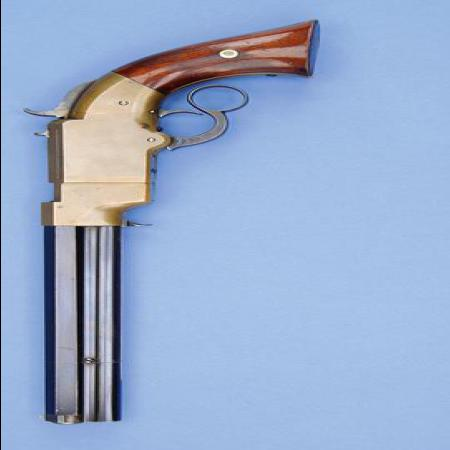Pistol: (14, 18, 320, 423)
